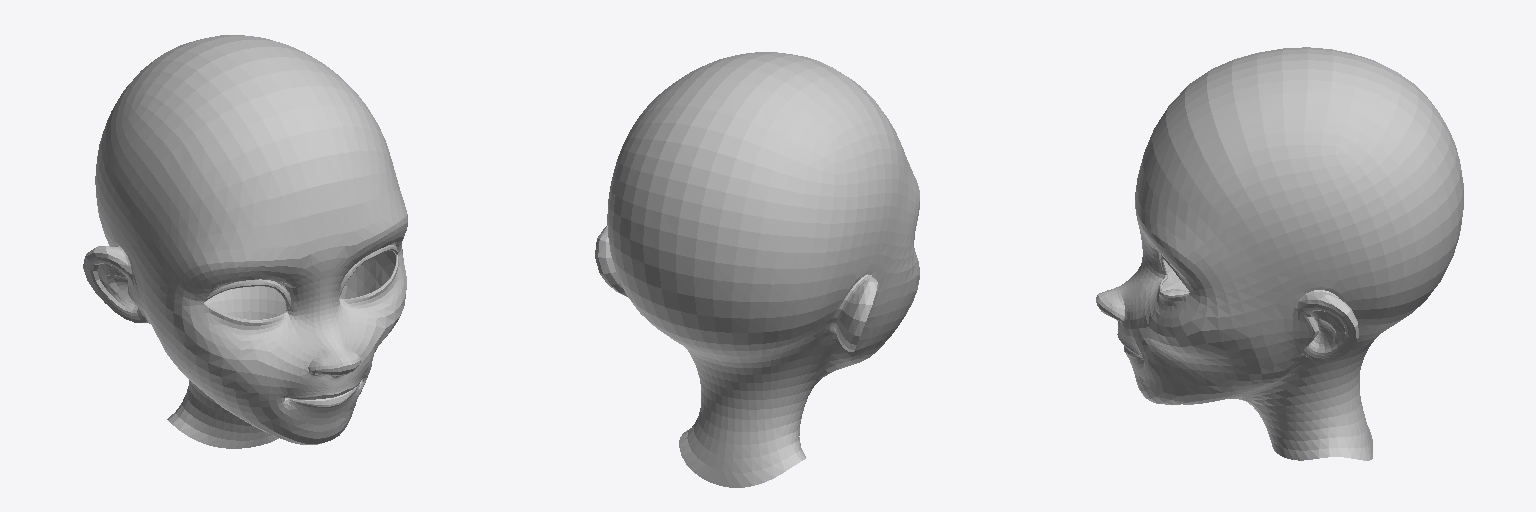
The model's file is Mery_l_suck.obj.
3 views of the same model, side by side, from view 1: azimuth 30°, elevation 25°; view 2: azimuth 150°, elevation 25°; view 3: azimuth 270°, elevation 25° (orthographic).
Bounding box in the file's own units: 23.75 × 32.31 × 27.53.